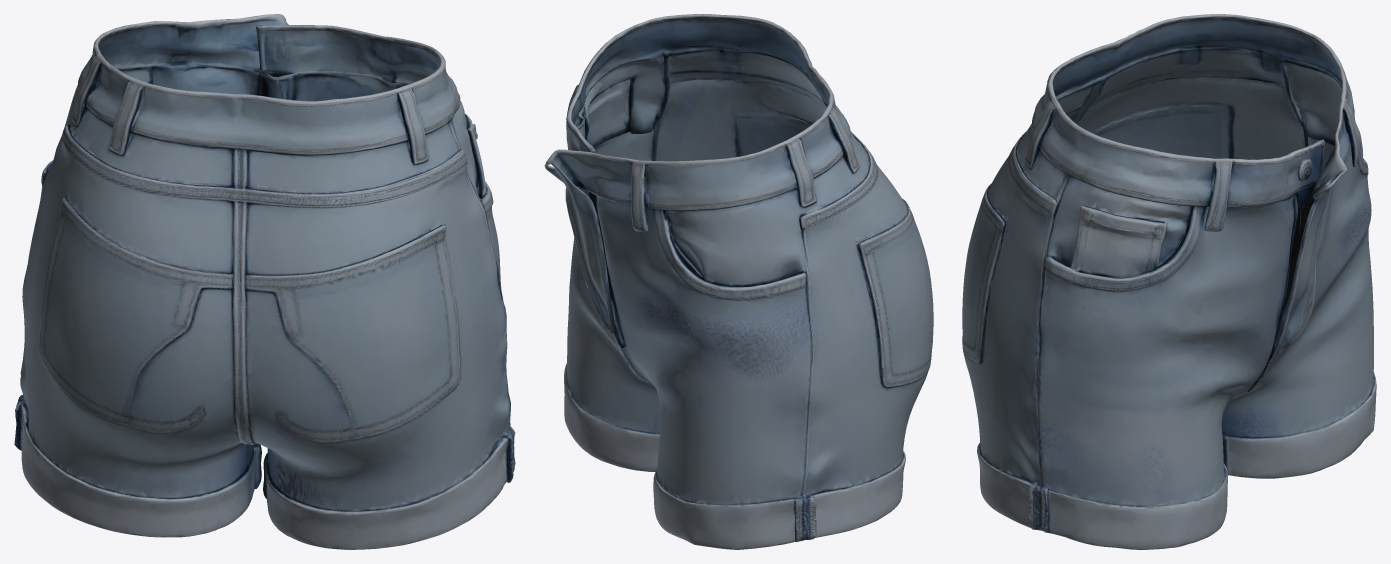
The model's file is short.glb.
3 views of the same model, side by side, from view 1: azimuth 30°, elevation 25°; view 2: azimuth 150°, elevation 25°; view 3: azimuth 270°, elevation 25° (orthographic). The views are drawn at different scales.
Parts seen in each view (by area): view 1: tripo_node_b31235f6-8c7e-49ba-a66e-b06c23603a31; view 2: tripo_node_b31235f6-8c7e-49ba-a66e-b06c23603a31; view 3: tripo_node_b31235f6-8c7e-49ba-a66e-b06c23603a31.
Boxes of the visible parts, left/top/right/bottom form: tripo_node_b31235f6-8c7e-49ba-a66e-b06c23603a31: left=14, top=14, right=515, bottom=549; tripo_node_b31235f6-8c7e-49ba-a66e-b06c23603a31: left=544, top=14, right=933, bottom=549; tripo_node_b31235f6-8c7e-49ba-a66e-b06c23603a31: left=962, top=14, right=1376, bottom=549.
Bounding box in the file's own units: 0.9616 × 1 × 0.9183.
1 material, 1 textured.
